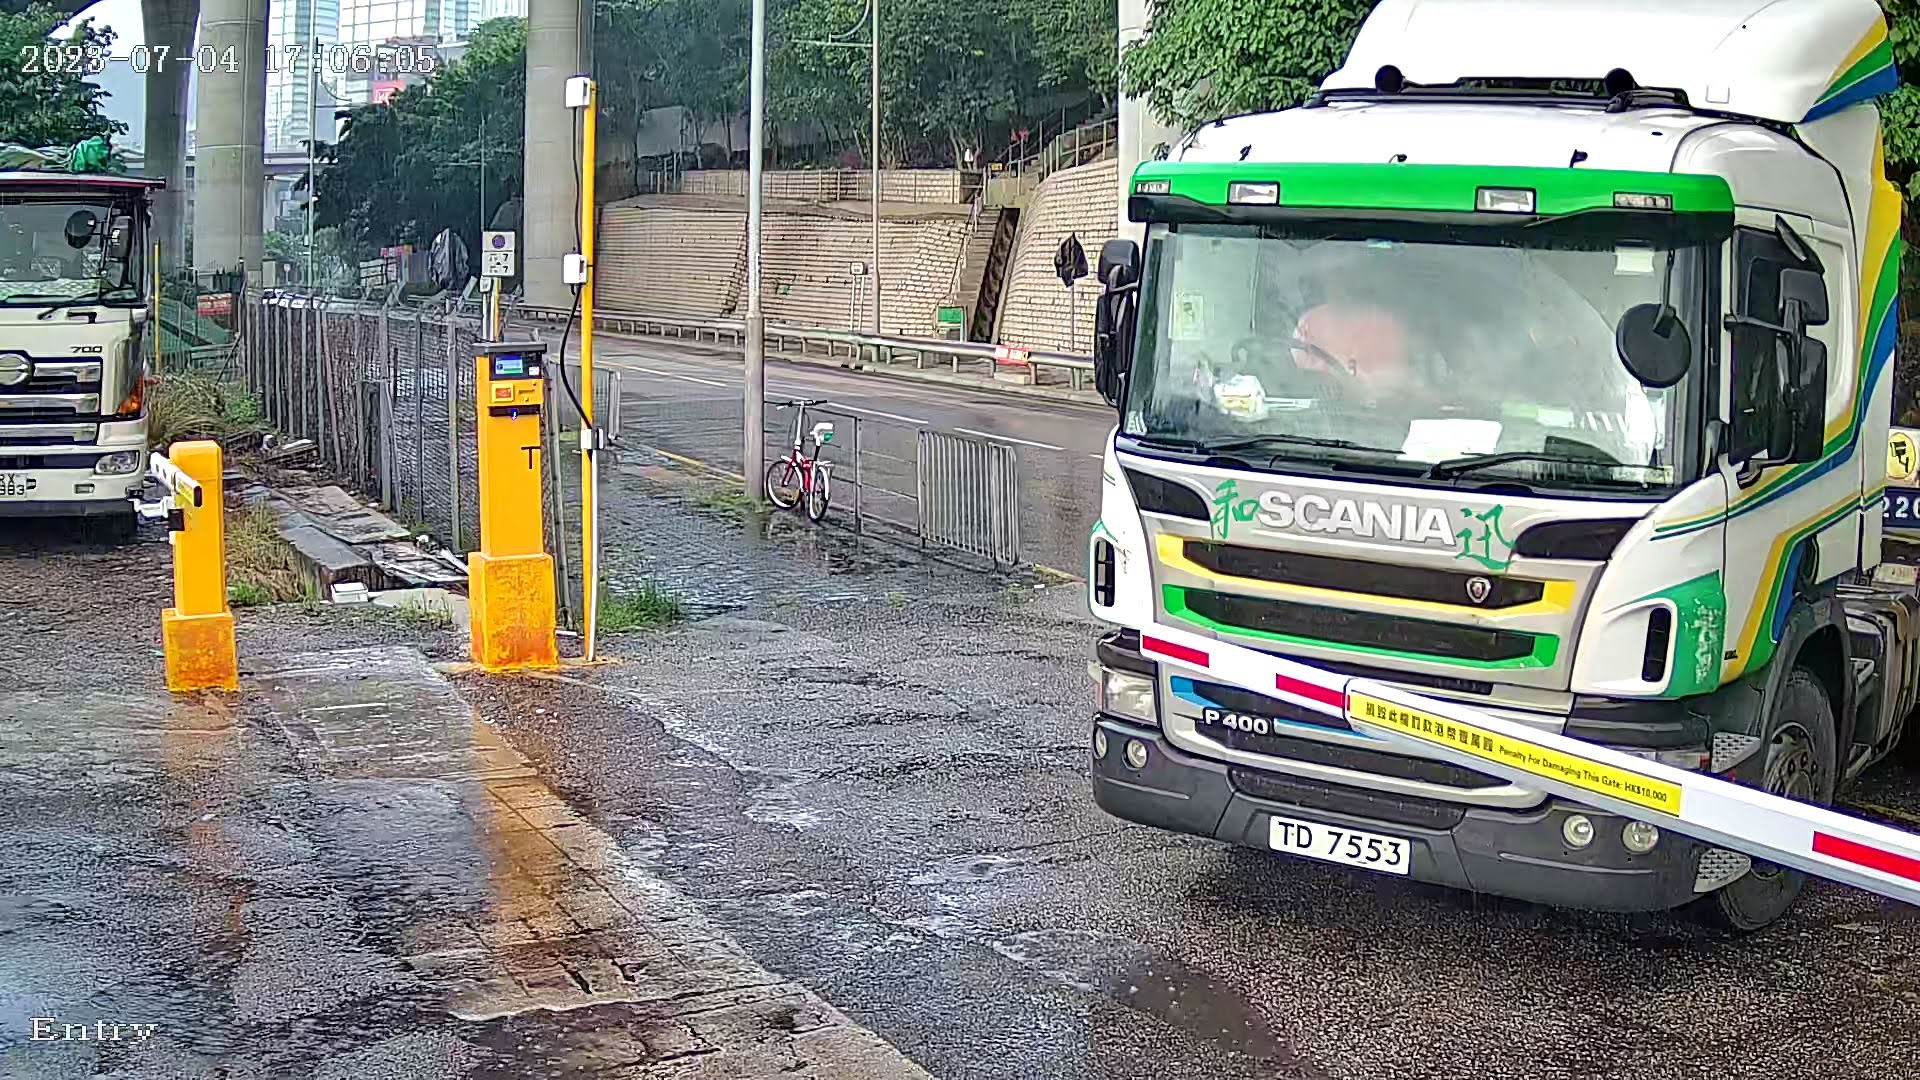truck_large: (1052, 15, 1920, 953)
